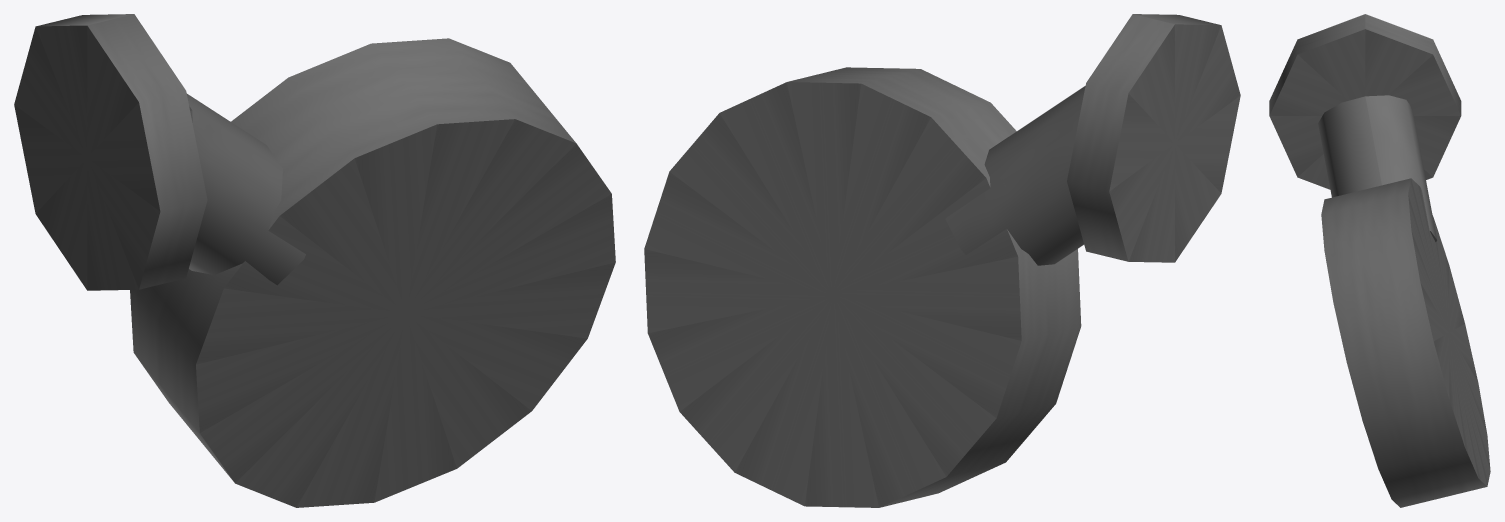
The model's file is mastarmcurve_6x2_c5_west.obj.
The picture shows the model from 3 angles, left to right: view 1: azimuth 30°, elevation 25°; view 2: azimuth 150°, elevation 25°; view 3: azimuth 270°, elevation 25°; orthographic projection. The views are drawn at different scales.
Visible parts, largest first — view 1: mastarm_6x2_c5_west; view 2: mastarm_6x2_c5_west; view 3: mastarm_6x2_c5_west.
Boxes of the visible parts, bbox=[...] form: mastarm_6x2_c5_west: bbox=[14, 14, 615, 507]; mastarm_6x2_c5_west: bbox=[644, 14, 1240, 507]; mastarm_6x2_c5_west: bbox=[1269, 14, 1490, 507].
Size of the model in its own units: 0.8308 by 0.8685 by 0.4611.
